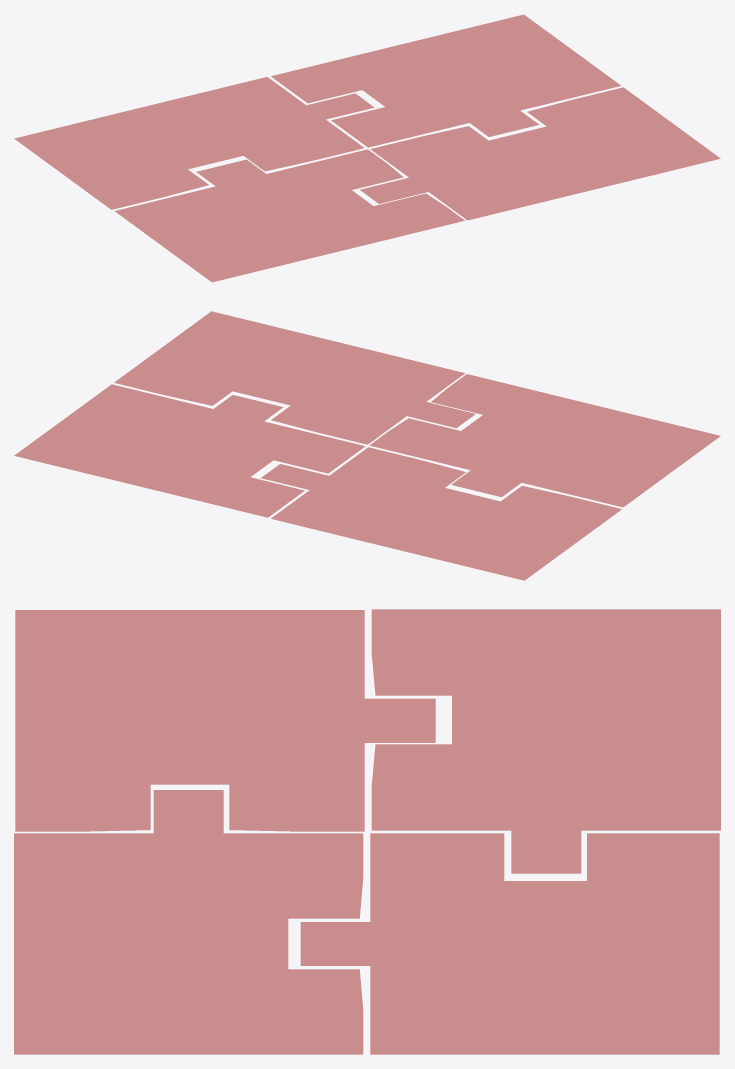
File: Puzzle.obj
3 renders of one model, top to bottom at view 1: azimuth 30°, elevation 25°; view 2: azimuth 150°, elevation 25°; view 3: azimuth 270°, elevation 25°, orthographic. The views are drawn at different scales.
Visible parts, largest first — view 1: Plane004, Plane002, Plane003, Plane001; view 2: Plane004, Plane002, Plane003, Plane001; view 3: Plane004, Plane002, Plane003, Plane001.
Part boxes in pixels (x1,y1,x2,y2): Plane004: (115,149,464,282); Plane002: (271,14,620,147); Plane003: (360,87,720,220); Plane001: (14,77,374,209); Plane004: (369,374,720,507); Plane002: (14,384,365,517); Plane003: (114,311,475,444); Plane001: (261,447,621,580); Plane004: (15,610,435,831); Plane002: (300,833,719,1054); Plane003: (14,790,363,1054); Plane001: (371,609,720,873).
Bounding box in the file's own units: 151 × 0 × 101.
